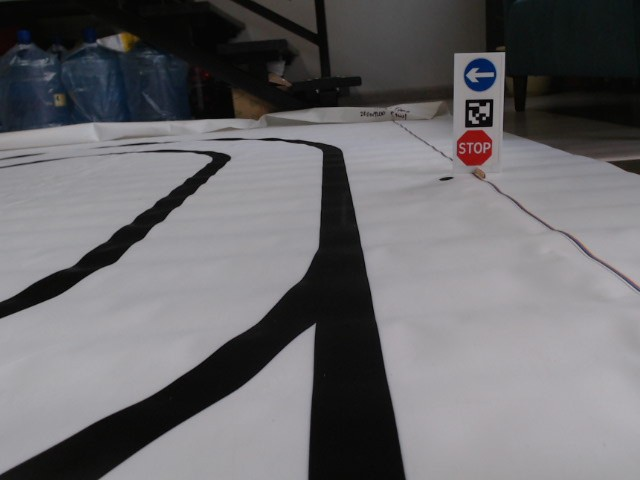Stop: (456, 128, 492, 165)
